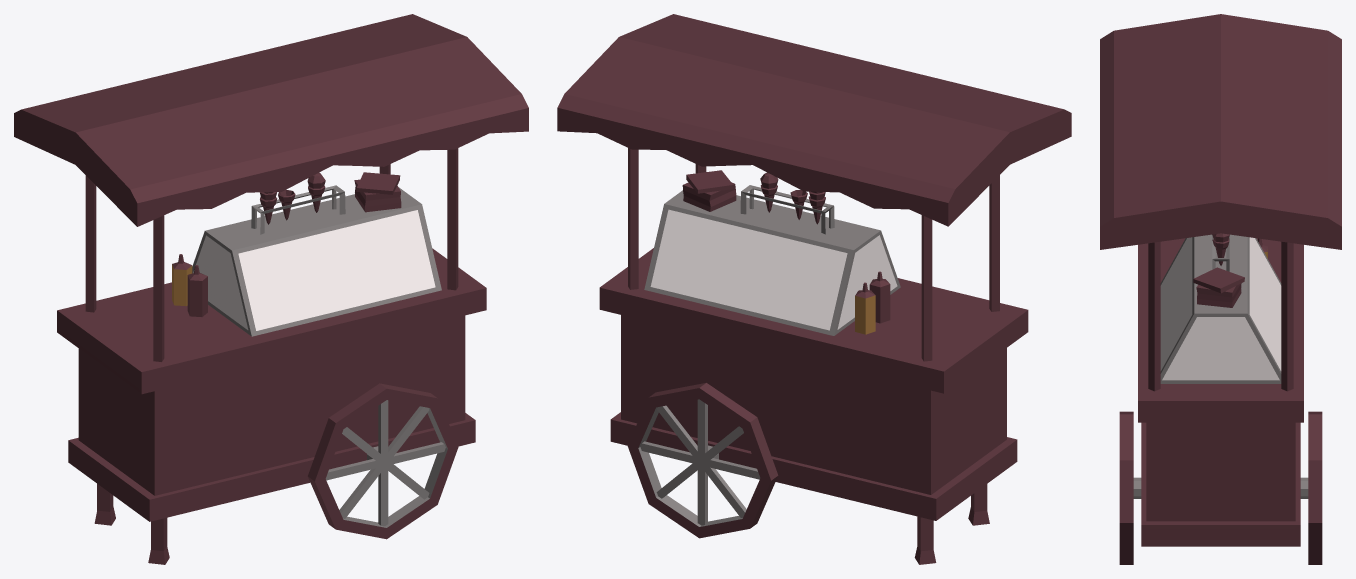
The model's file is stand-ice-cream.fbx.
The picture shows the model from 3 angles, left to right: view 1: azimuth 30°, elevation 25°; view 2: azimuth 150°, elevation 25°; view 3: azimuth 270°, elevation 25°; orthographic projection.
Visible parts, largest first — view 1: stand-ice-cream; view 2: stand-ice-cream; view 3: stand-ice-cream.
Part boxes in pixels (box(x1,y1,x2,y2)): stand-ice-cream: box(14, 14, 528, 564); stand-ice-cream: box(557, 14, 1071, 564); stand-ice-cream: box(1100, 14, 1341, 564).
Size of the model in its own units: 2.06 by 2.17 by 1.12.
